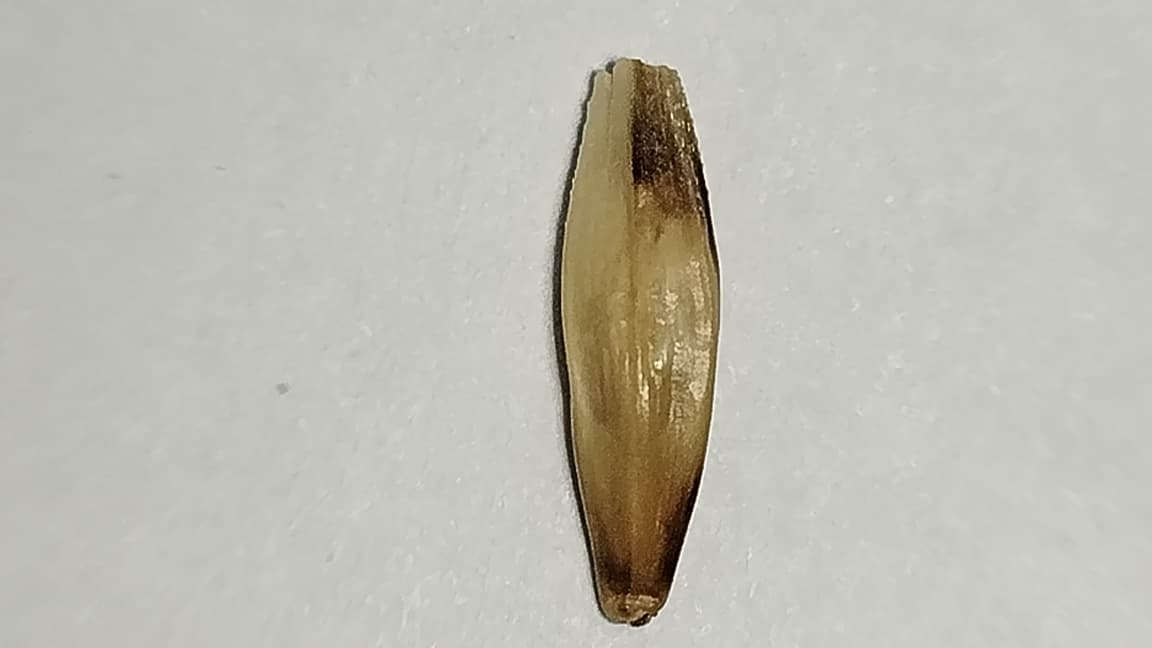damage: (560, 59, 719, 623)
staindamage: (584, 464, 702, 627), (633, 69, 705, 211)
